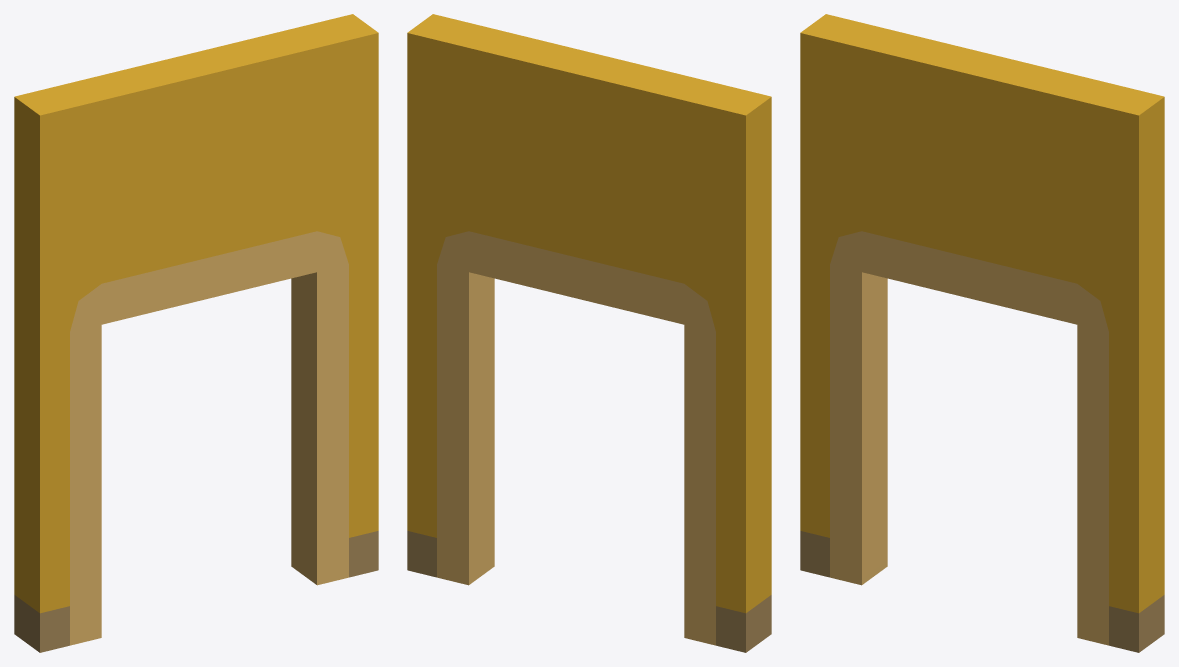
File: EmbrasureDoorGeo.fbx
The picture shows the model from 3 angles, left to right: view 1: azimuth 30°, elevation 25°; view 2: azimuth 150°, elevation 25°; view 3: azimuth 330°, elevation 25°; orthographic projection.
Visible parts, largest first — view 1: EmbrasureDoorGeo; view 2: EmbrasureDoorGeo; view 3: EmbrasureDoorGeo.
Boxes of the visible parts, box(x1,y1,x2,y2) form: EmbrasureDoorGeo: box(14, 14, 378, 652); EmbrasureDoorGeo: box(407, 14, 771, 652); EmbrasureDoorGeo: box(800, 14, 1164, 652).
Size of the model in its own units: 330 by 500 by 43.52.
